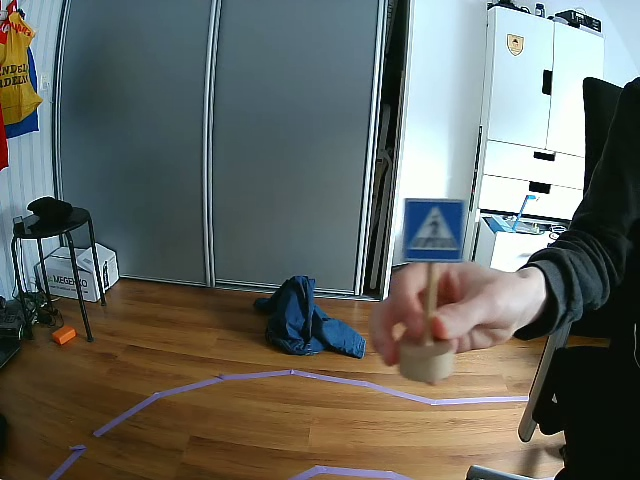zebrapad: (401, 199, 465, 260)
